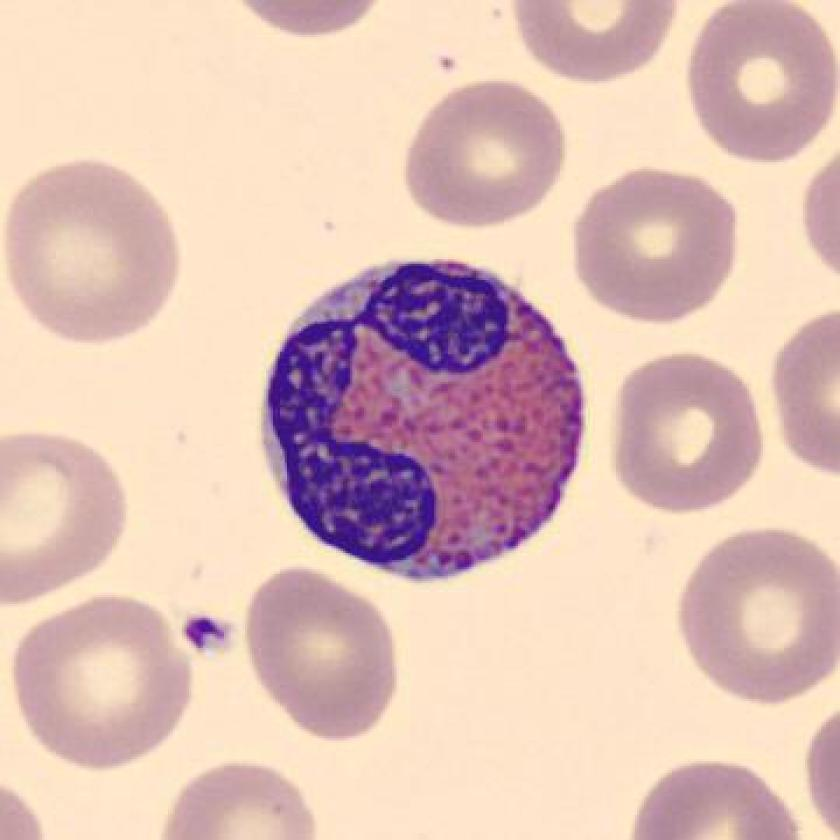eosinophil: (246, 244, 605, 593)
